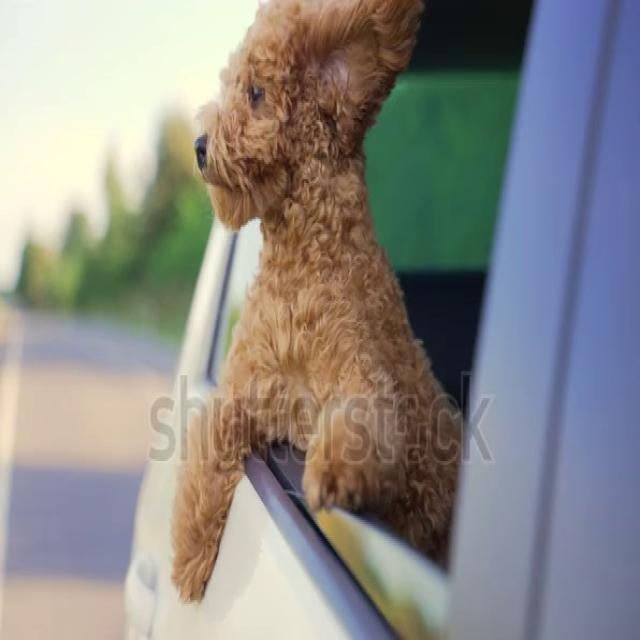normal_animals: (165, 2, 466, 606)
